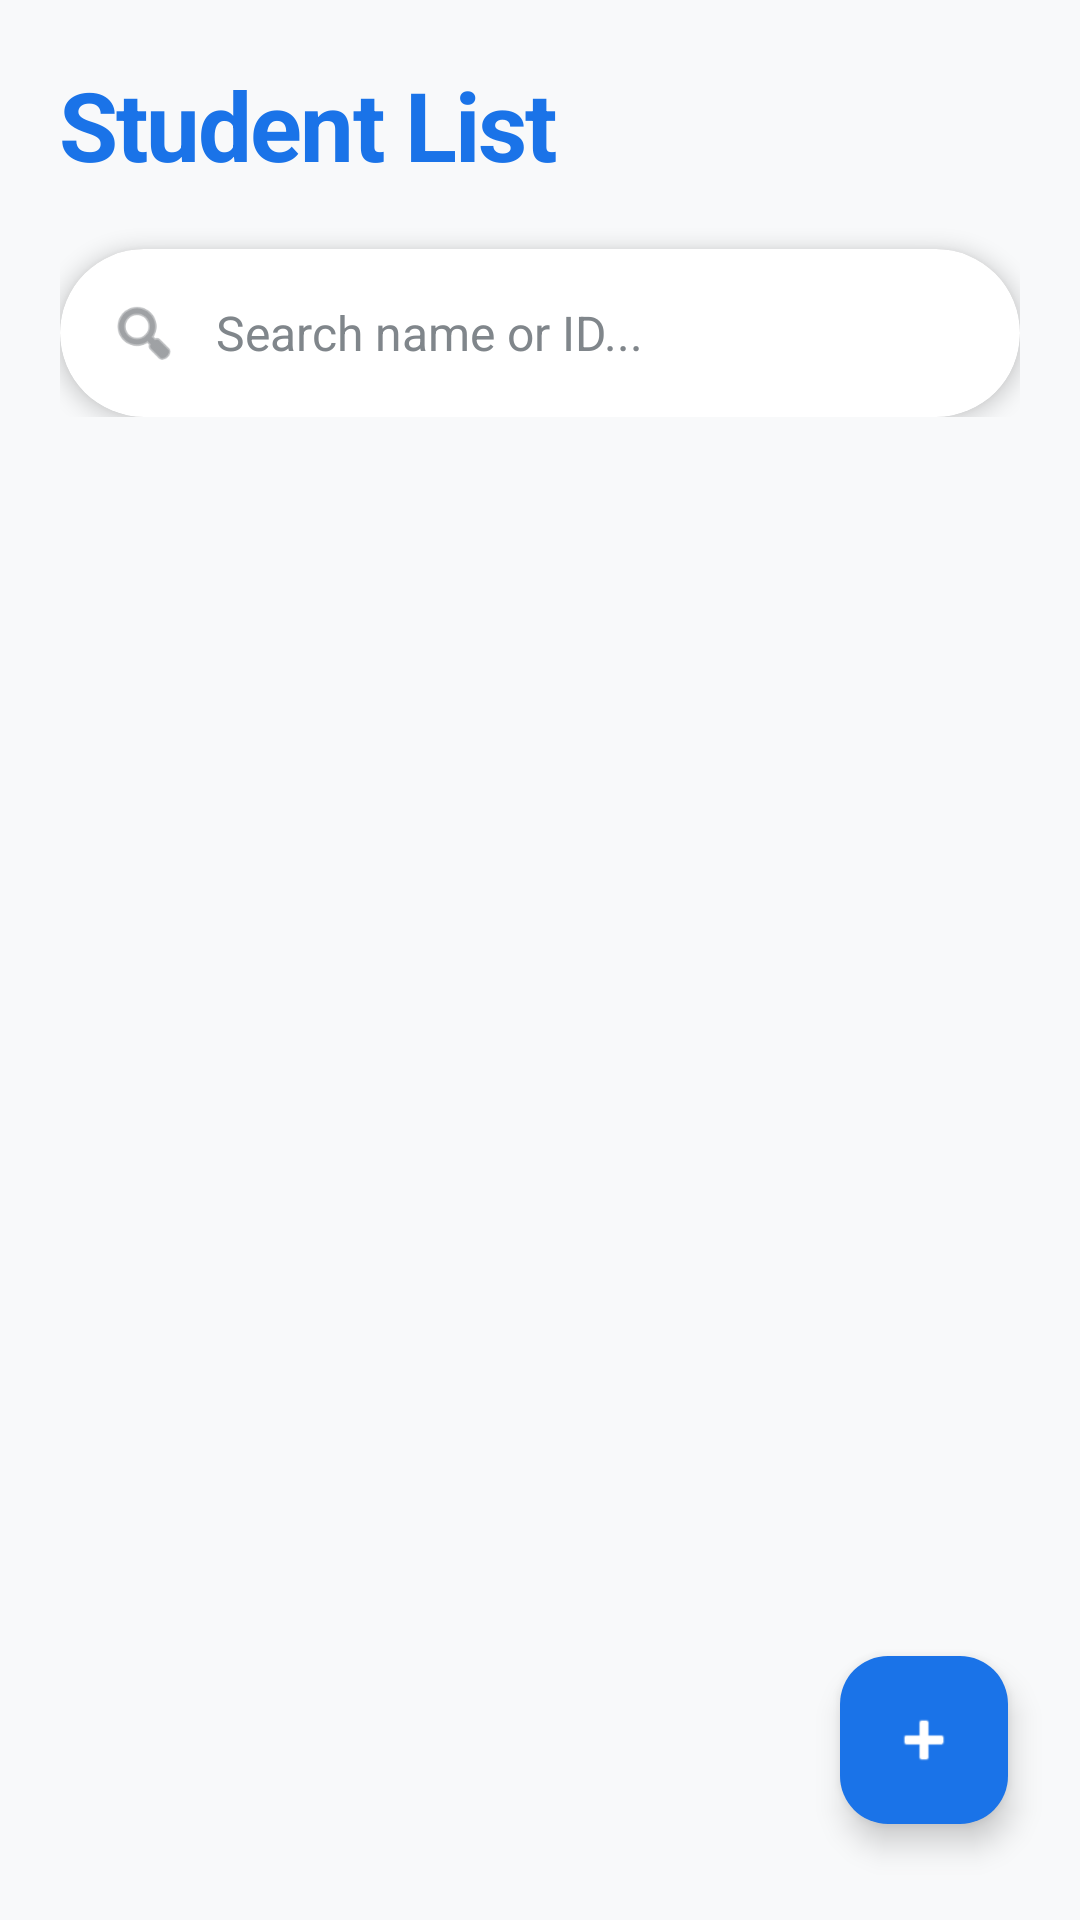

Point at icon controls on the screen. Image size 1080*1920, points as (x=x, y=y).
Add Student: (x=924, y=1740)
